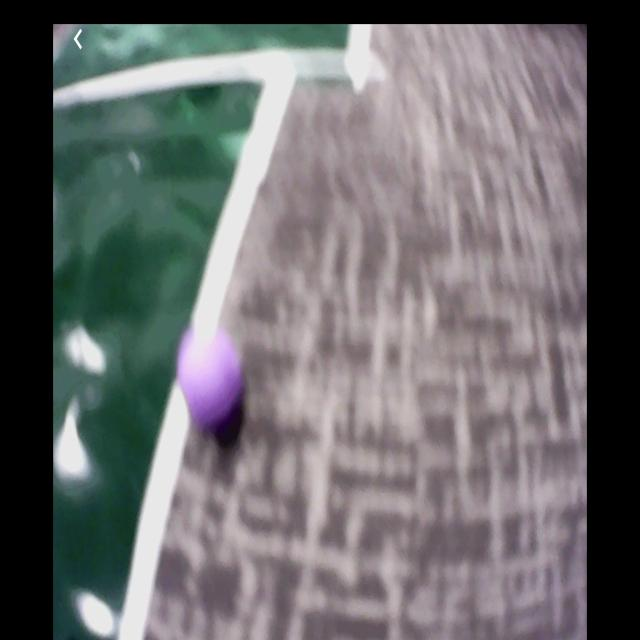ball: (178, 326, 245, 428)
